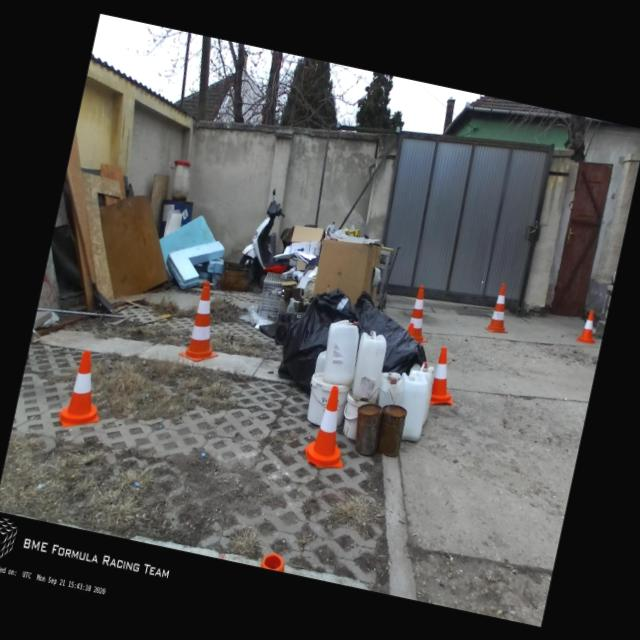large_orange_cone: (178, 278, 230, 365), (404, 284, 438, 344), (485, 281, 517, 335)
orange_cone: (302, 383, 358, 473), (56, 348, 112, 432), (428, 346, 464, 408), (575, 310, 600, 344)
